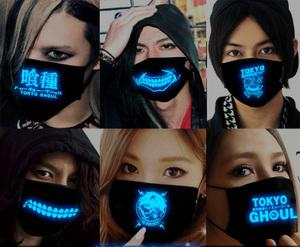OK: (113, 148, 201, 236), (217, 153, 293, 244), (15, 156, 94, 235), (12, 39, 87, 122), (220, 36, 289, 105), (130, 37, 188, 100)
